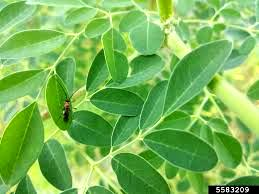Helopeltis-insect: (59, 94, 73, 125)
